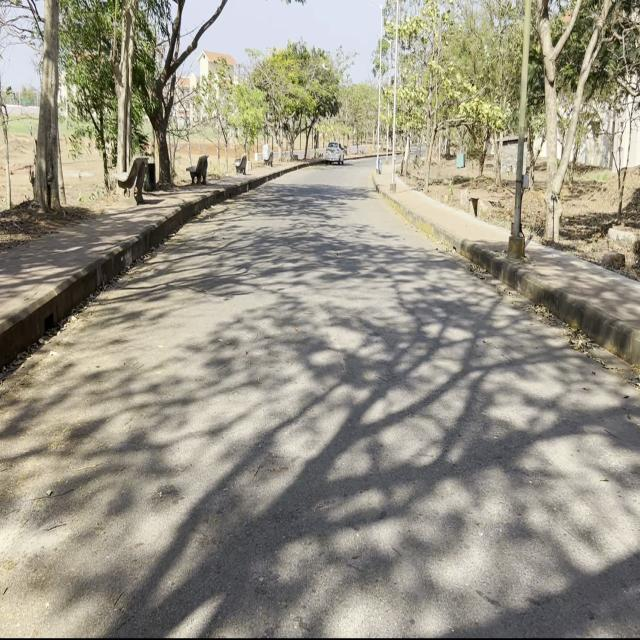Object: (322, 138, 345, 170)
Road: (5, 161, 635, 632)
